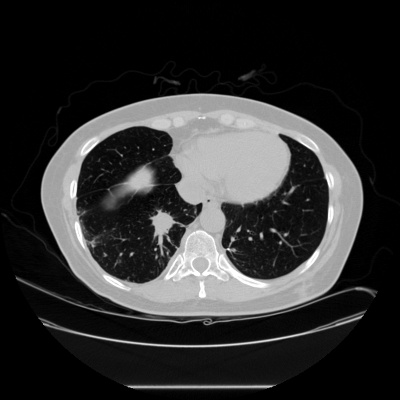PN: (151, 211, 173, 233)
